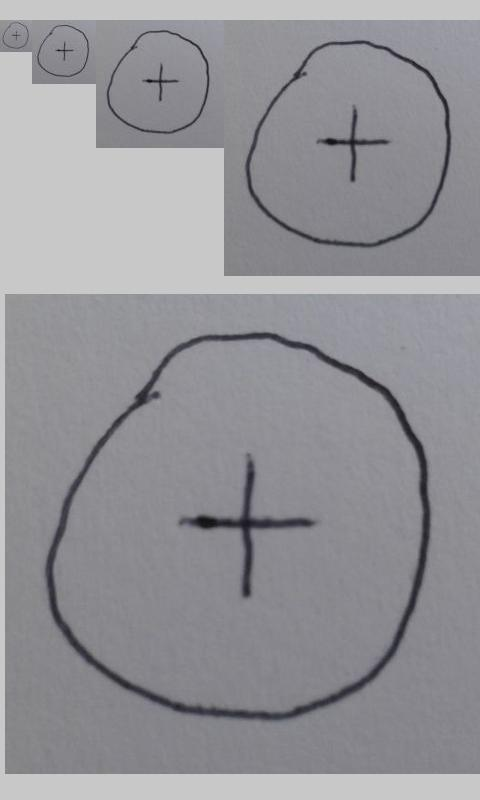button: (41, 330, 435, 725), (243, 38, 453, 250), (106, 29, 210, 135), (37, 24, 90, 77), (2, 22, 29, 49)
